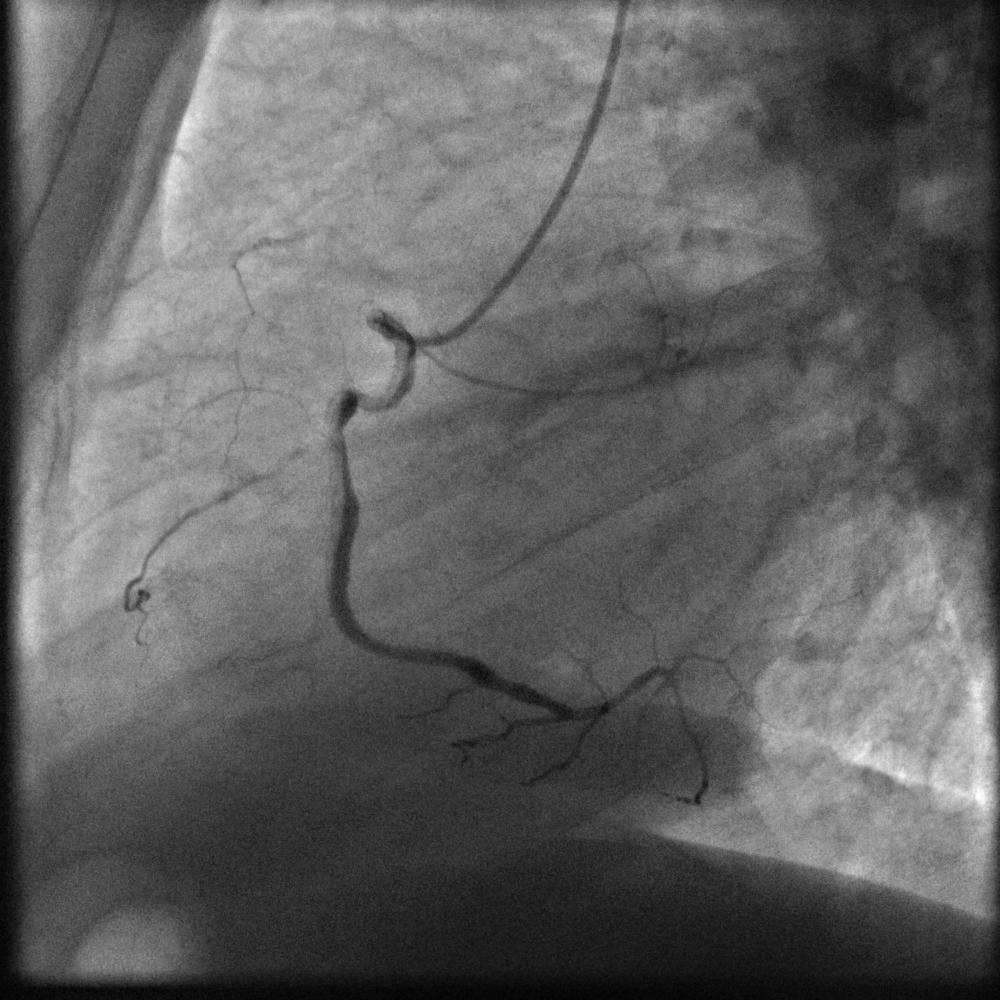Stenosis: (349, 385, 374, 416)
